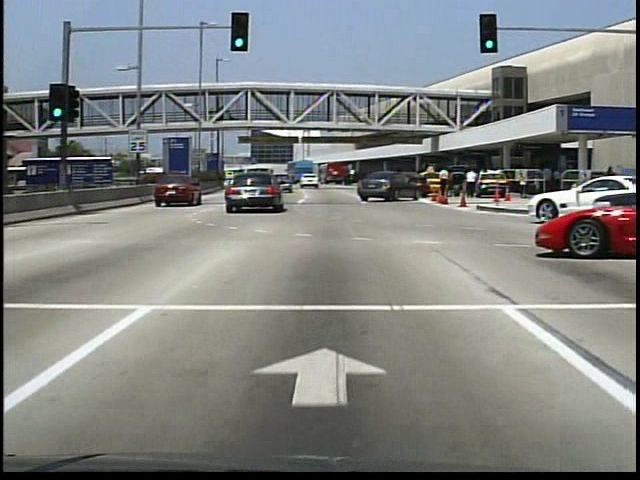person: (437, 167, 454, 204), (462, 170, 478, 202), (515, 170, 531, 201), (217, 105, 226, 124)
